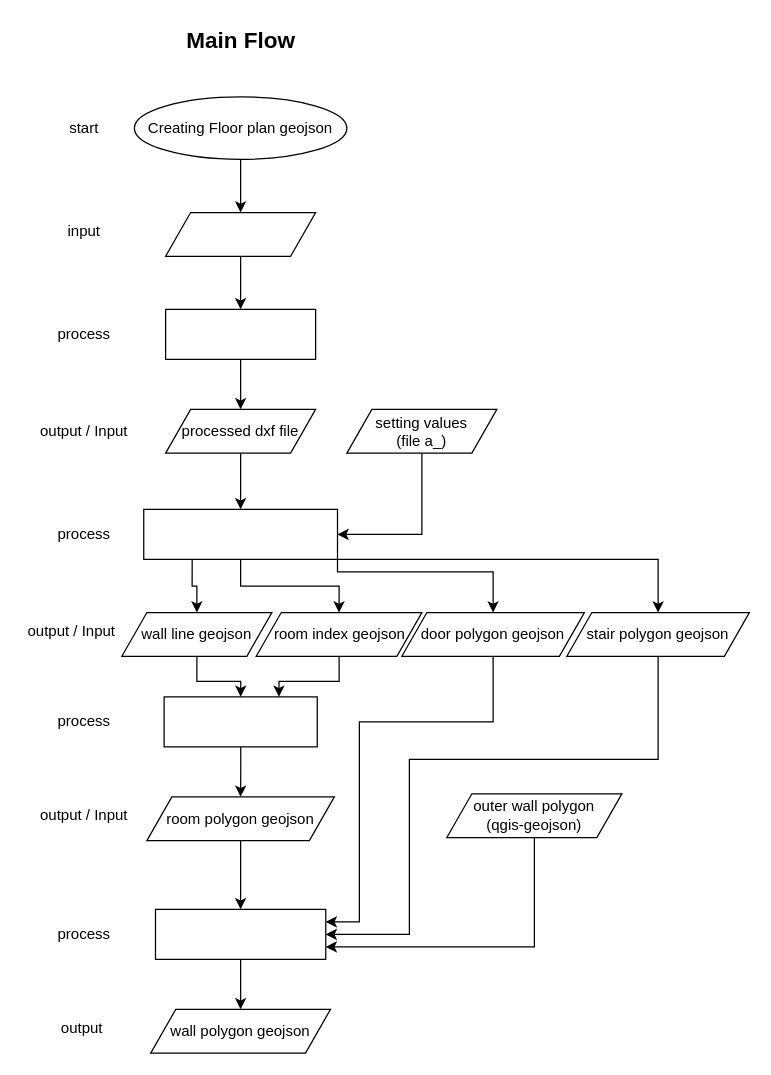
The diagram is 771 pixels wide and 1075 high, and some of its shapes have lost their labels. Here are the shapes that lost their labels. From the top down, the centre of each, then its label:
the point at 240,233: origial dxf file
the point at 240,333: Pre-processing of dxf
the point at 240,533: extract features from dxf file (file b_)
the point at 240,721: extract room polygon (file c_)
the point at 240,933: extract wall polygon (file d_)
